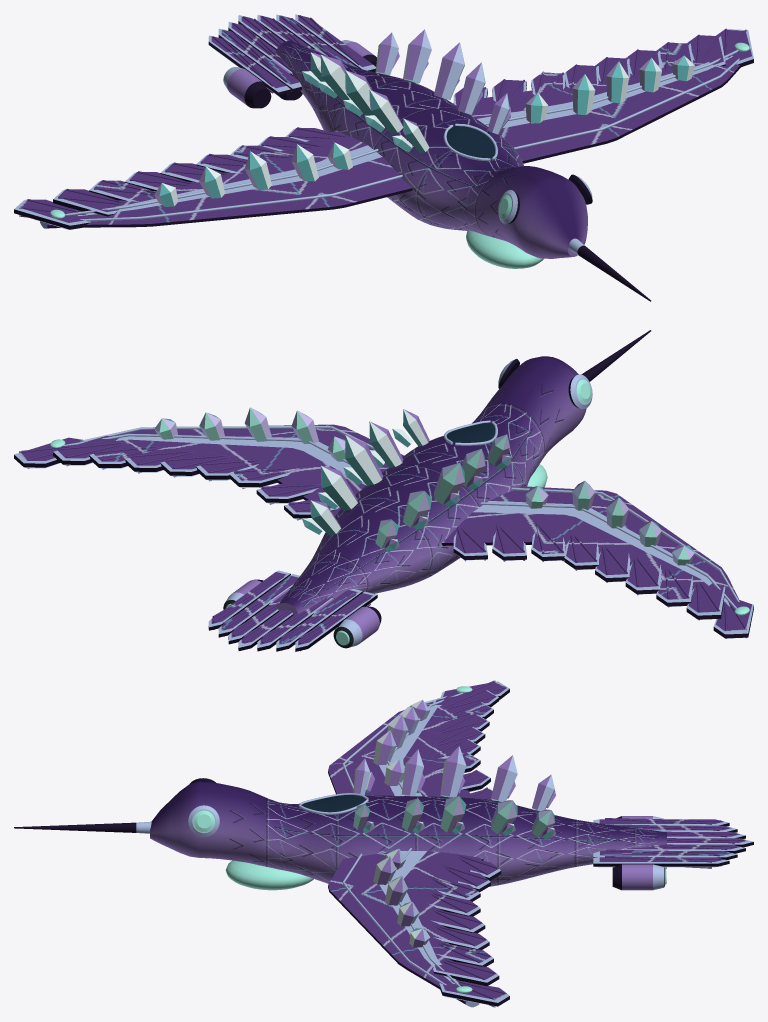
The picture shows the model from 3 angles, top to bottom: view 1: azimuth 30°, elevation 25°; view 2: azimuth 150°, elevation 25°; view 3: azimuth 270°, elevation 25°; orthographic projection. The views are drawn at different scales.
Parts seen in each view (by area): view 1: hummingbird_hull; view 2: hummingbird_hull; view 3: hummingbird_hull.
Part boxes in pixels (x1=…): hummingbird_hull: x1=14, y1=14, x2=753, y2=301; hummingbird_hull: x1=14, y1=330, x2=753, y2=651; hummingbird_hull: x1=14, y1=680, x2=753, y2=1007.
Bounding box in the file's own units: 17 × 2.81 × 16.53.
Materials: 1 (1 with a texture image).
